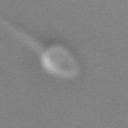normal: (1, 12, 43, 54)
